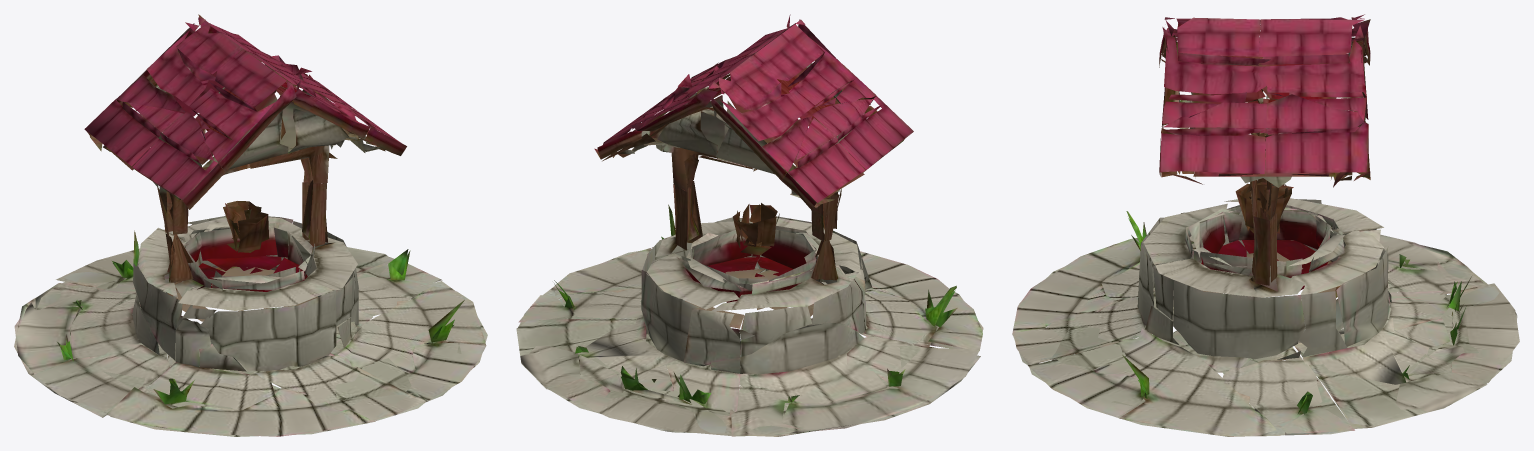
File: well.a1373aece9cb.glb
3 views of the same model, side by side, from view 1: azimuth 30°, elevation 25°; view 2: azimuth 150°, elevation 25°; view 3: azimuth 270°, elevation 25° (orthographic). The views are drawn at different scales.
Parts seen in each view (by area): view 1: Mesh_0.001; view 2: Mesh_0.001; view 3: Mesh_0.001.
Boxes of the visible parts, bbox=[...] form: Mesh_0.001: bbox=[14, 14, 487, 436]; Mesh_0.001: bbox=[516, 14, 983, 436]; Mesh_0.001: bbox=[1012, 14, 1519, 436].
Size of the model in its own units: 4.33 by 3 by 4.36.
Materials: 1 (1 with a texture image).
